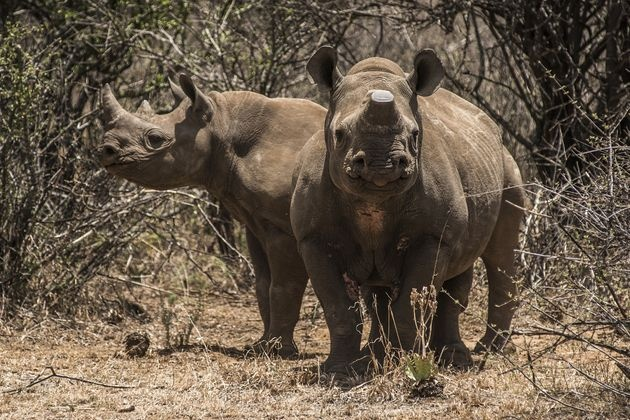rhino: (284, 41, 531, 379), (94, 70, 342, 360)
